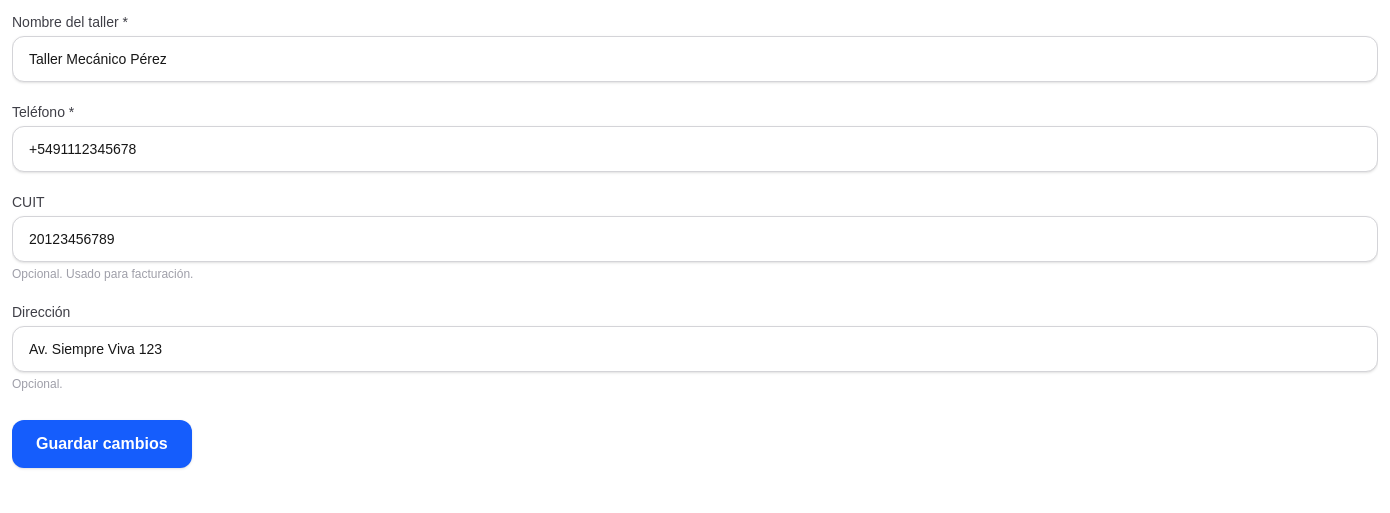
it: WorkshopForm › validation › shows phone error when phone has fewer than 10 digits
Replace the text in the field labelled "Teléfono *" with "12345": coordinates (695, 149) [12,126,1378,172]
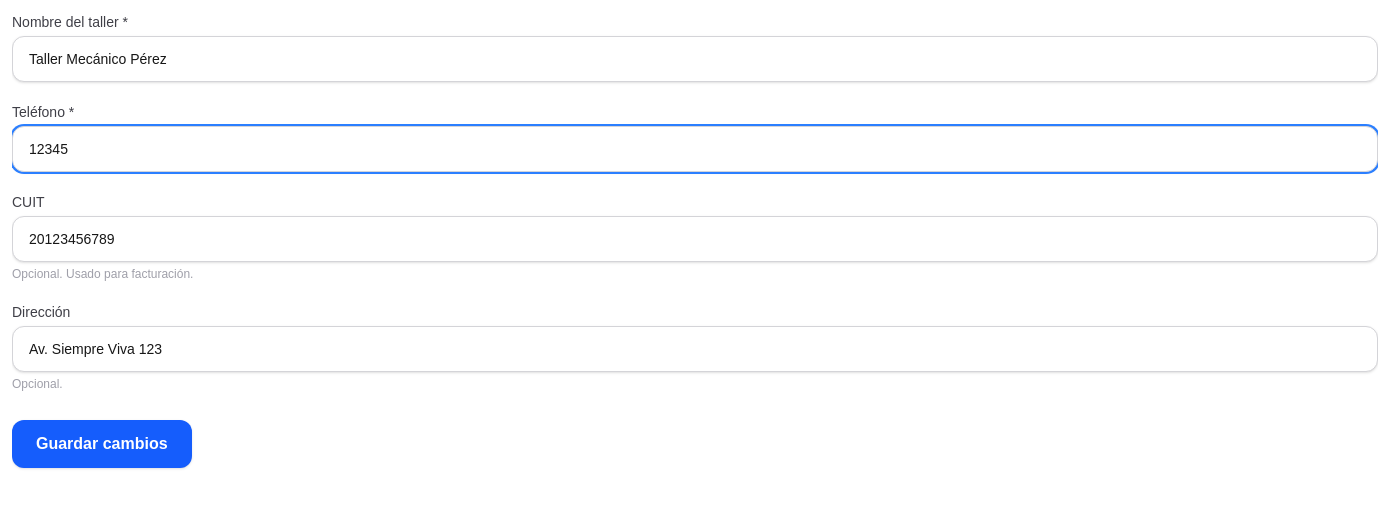
Click the button "Guardar cambios": coordinates (102, 444) [12,420,192,468]
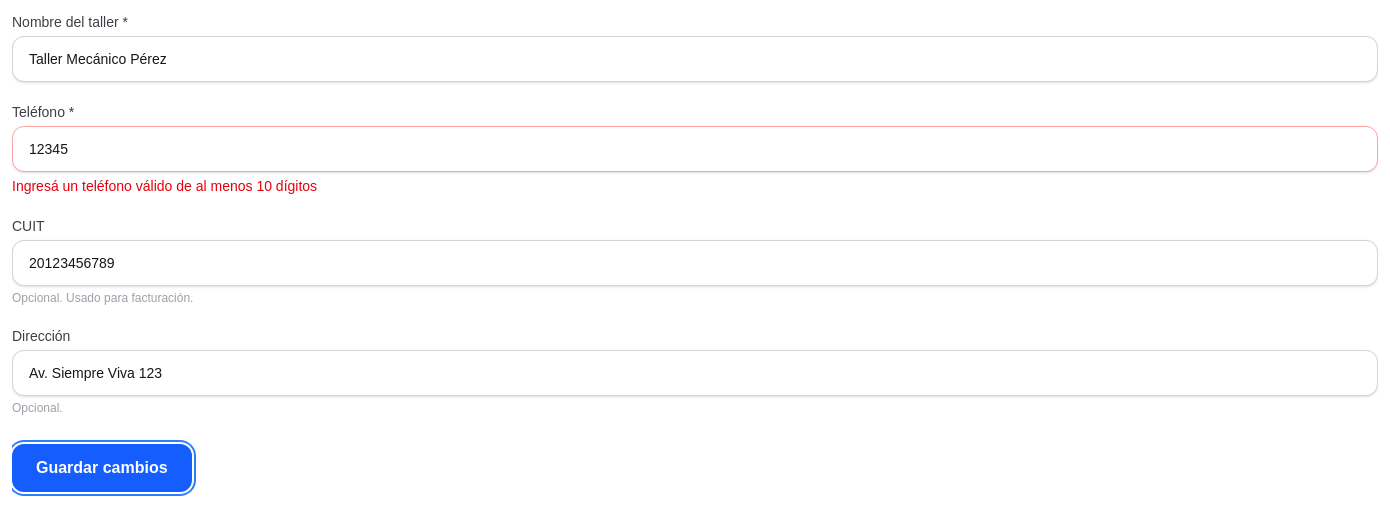
Check: the text "Ingresá un teléfono válido de al menos 10 dígitos" is shown, box [12,178,317,194]
